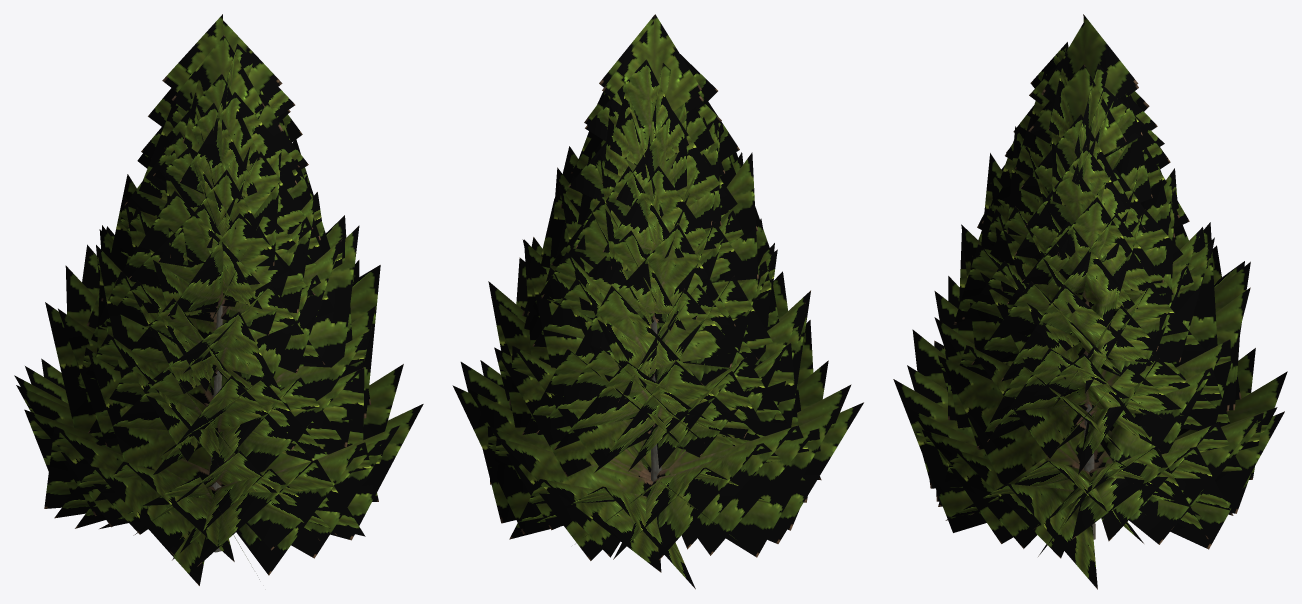
The model's file is tree.fbx.
The picture shows the model from 3 angles, left to right: view 1: azimuth 30°, elevation 25°; view 2: azimuth 150°, elevation 25°; view 3: azimuth 270°, elevation 25°; orthographic projection. The views are drawn at different scales.
Parts seen in each view (by area): view 1: g1; view 2: g1; view 3: g1.
Boxes of the visible parts, x1=… form: g1: x1=14, y1=14, x2=423, y2=585; g1: x1=452, y1=14, x2=863, y2=589; g1: x1=893, y1=14, x2=1287, y2=589.
Size of the model in its own units: 331 by 491 by 334.
